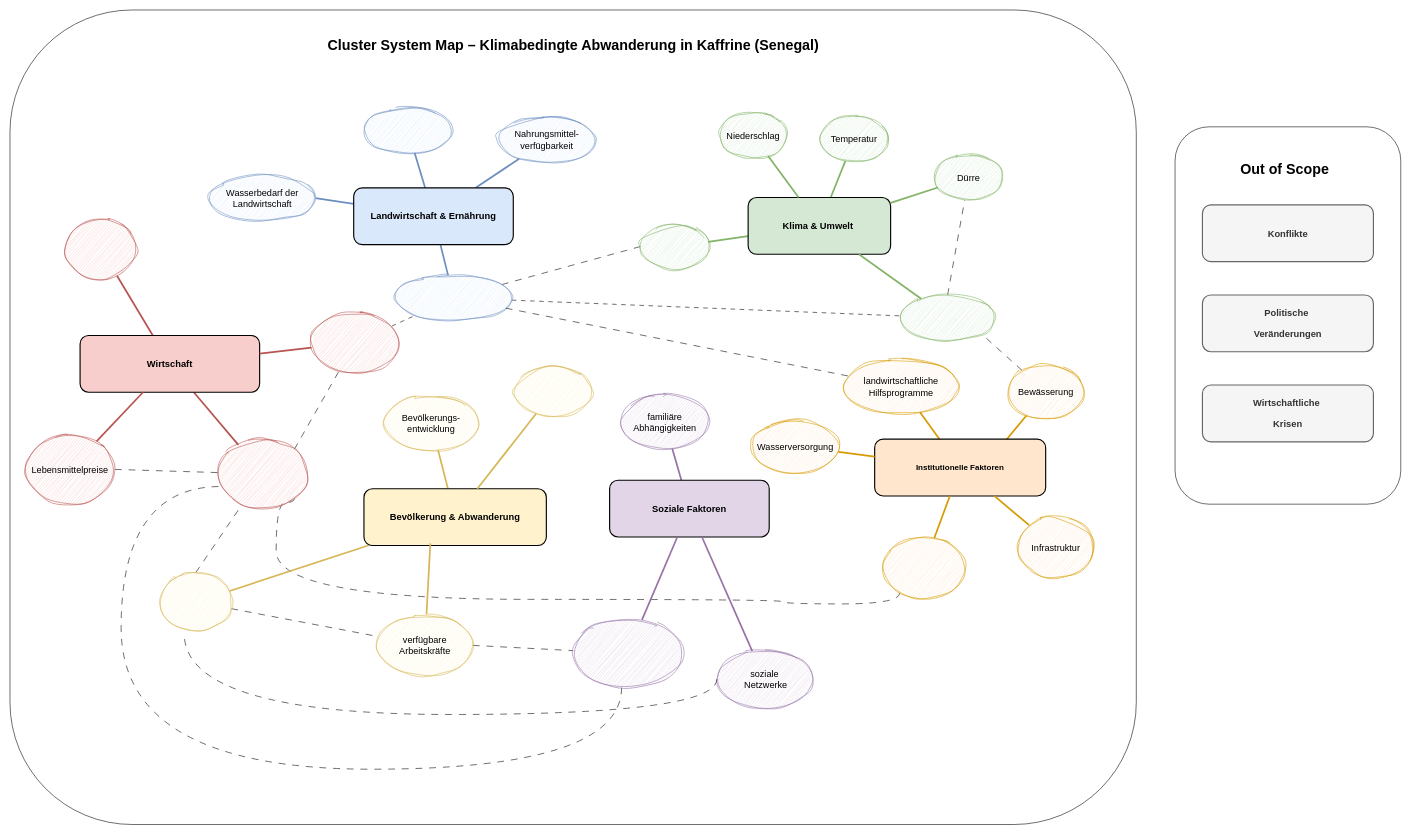
Some shapes in this 1411 by 834 pixel diagram are drawn without their labels. The shapes that lost their labels are listed below. From the top down, each one's centre as x and y in pixels, then its label:
[407,130]: verfügbare Anbaufläche
[101,248]: wirtschaftliche Alternativen
[674,246]: Bodenqualität
[453,297]: landwirtschaftlicher Ertrag
[947,317]: Wasserverfügbarkeit
[354,342]: Einkommen aus Landwirtschaft
[553,391]: Bevölkerung
[262,474]: Haushalts-einkommen
[923,567]: staatliche Unterstützung
[195,601]: Abwanderung
[628,653]: Geldsendungen von Abgewanderten an ihre Familien
